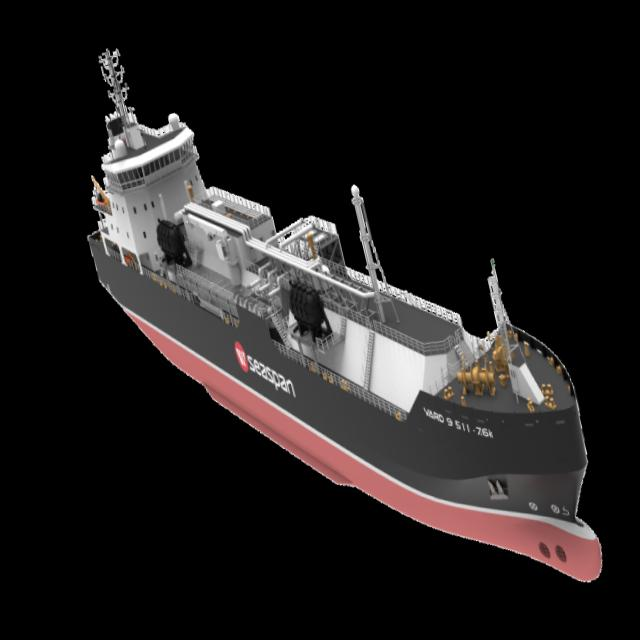boat: (43, 0, 623, 640)
